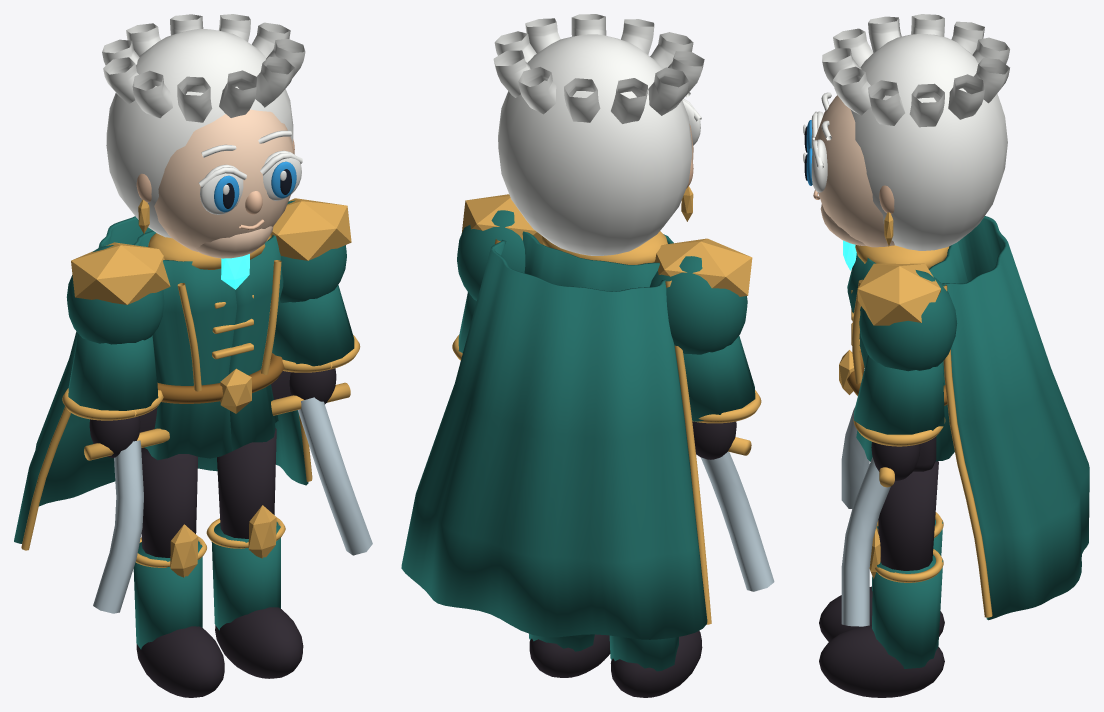
Rendered from caio-refined-v15.fbx.
3 renders of one model, left to right at view 1: azimuth 30°, elevation 25°; view 2: azimuth 150°, elevation 25°; view 3: azimuth 270°, elevation 25°, orthographic. The views are drawn at different scales.
Visible parts, largest first — view 1: FittedBodice.001, HairVolume.001, Face.001, FlowingCape.001, Sleeve.002, Stocking.002, BootShaft.003, BootShaft.002, Sleeve.003, ShoulderPlate.002, CurvedSilverDagger, Boot.002 (+35 smaller); view 2: FlowingCape.001, HairVolume.001, SleeveCap.002, FittedBodice.001, Sleeve.002, CurvedSilverDagger, ShoulderPlate.002, SleeveCap.003, Boot.002, Boot.003, CapeGoldEdge.002, BootShaft.002 (+16 smaller); view 3: FlowingCape.001, HairVolume.001, Face.001, BootShaft.003, Sleeve.003, Boot.003, Stocking.003, SleeveCap.003, CurvedSilverDagger.001, ShoulderPlate.003, FittedBodice.001, CapeGoldEdge.003 (+21 smaller).
Boxes of the visible parts, left/top/right/bottom form: FittedBodice.001: left=133, top=230, right=283, bottom=460; HairVolume.001: left=106, top=29, right=293, bottom=238; Face.001: left=154, top=109, right=293, bottom=251; FlowingCape.001: left=14, top=216, right=308, bottom=543; Sleeve.002: left=68, top=333, right=158, bottom=410; Stocking.002: left=141, top=447, right=197, bottom=557; BootShaft.003: left=211, top=522, right=280, bottom=630; BootShaft.002: left=133, top=541, right=202, bottom=649; Sleeve.003: left=272, top=285, right=354, bottom=366; ShoulderPlate.002: left=71, top=242, right=170, bottom=304; CurvedSilverDagger: left=93, top=440, right=143, bottom=613; Boot.002: left=136, top=626, right=224, bottom=697; FlowingCape.001: left=401, top=240, right=707, bottom=639; HairVolume.001: left=498, top=34, right=691, bottom=255; SleeveCap.002: left=650, top=256, right=747, bottom=354; FittedBodice.001: left=522, top=231, right=673, bottom=291; Sleeve.002: left=683, top=335, right=755, bottom=421; CurvedSilverDagger: left=701, top=451, right=774, bottom=591; ShoulderPlate.002: left=654, top=238, right=752, bottom=296; SleeveCap.003: left=457, top=210, right=525, bottom=300; Boot.002: left=610, top=631, right=702, bottom=697; Boot.003: left=529, top=634, right=610, bottom=677; CapeGoldEdge.002: left=665, top=280, right=711, bottom=624; BootShaft.002: left=609, top=635, right=678, bottom=671; FlowingCape.001: left=942, top=216, right=1089, bottom=620; HairVolume.001: left=850, top=33, right=1007, bottom=250; Face.001: left=814, top=95, right=894, bottom=247; BootShaft.003: left=872, top=554, right=942, bottom=668; Sleeve.003: left=854, top=355, right=944, bottom=434; Boot.003: left=819, top=625, right=944, bottom=697; Stocking.003: left=878, top=461, right=938, bottom=570; SleeveCap.003: left=859, top=270, right=957, bottom=371; CurvedSilverDagger.001: left=841, top=457, right=890, bottom=626; ShoulderPlate.003: left=857, top=263, right=940, bottom=325; FittedBodice.001: left=847, top=242, right=968, bottom=461; CapeGoldEdge.003: left=943, top=284, right=992, bottom=617.
Size of the model in its own units: 96.34 by 200 by 81.89.
